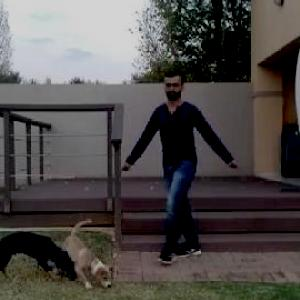land: (124, 72, 244, 269)
